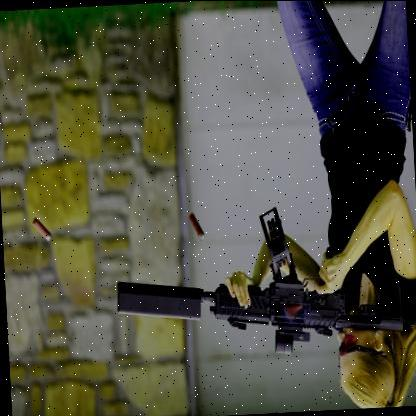rifle: (108, 189, 405, 375)
